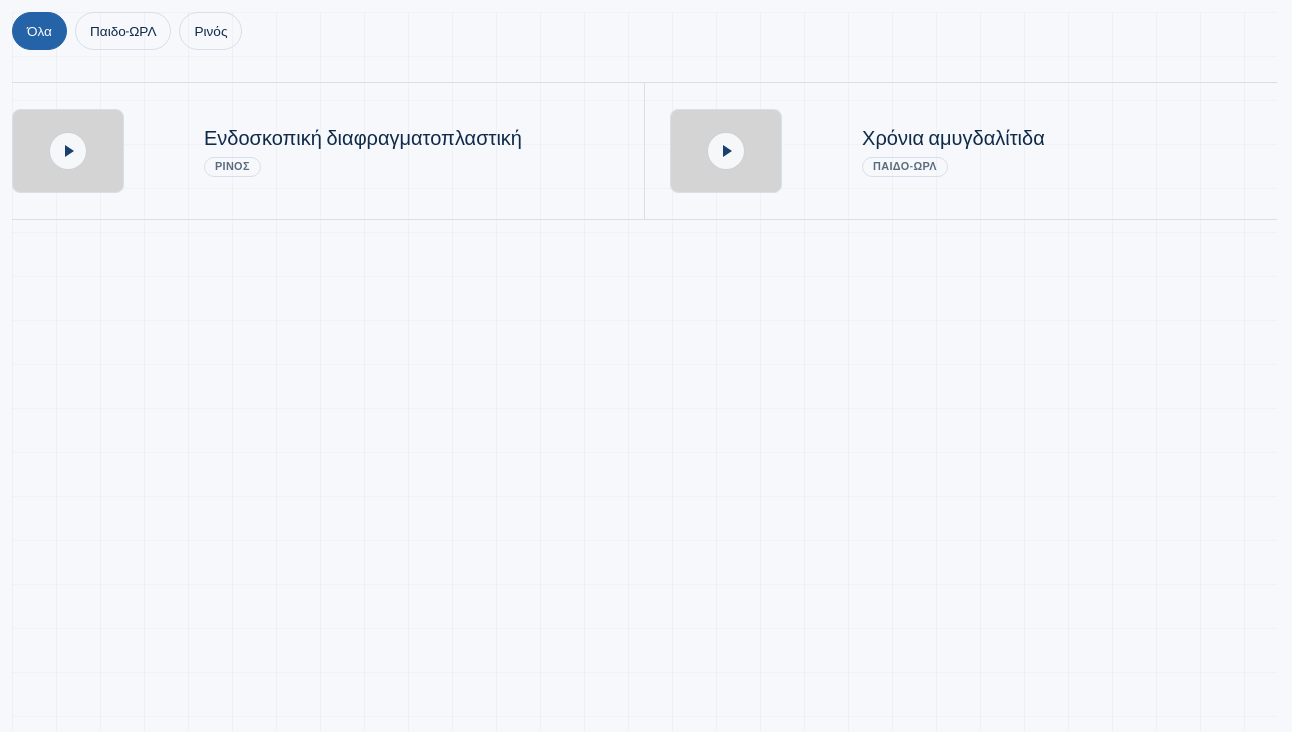
Test: VideoDirectoryGrid › filters entries by category
Click the button "Παιδο-ΩΡΛ" at (123, 31), box [75,12,172,50]
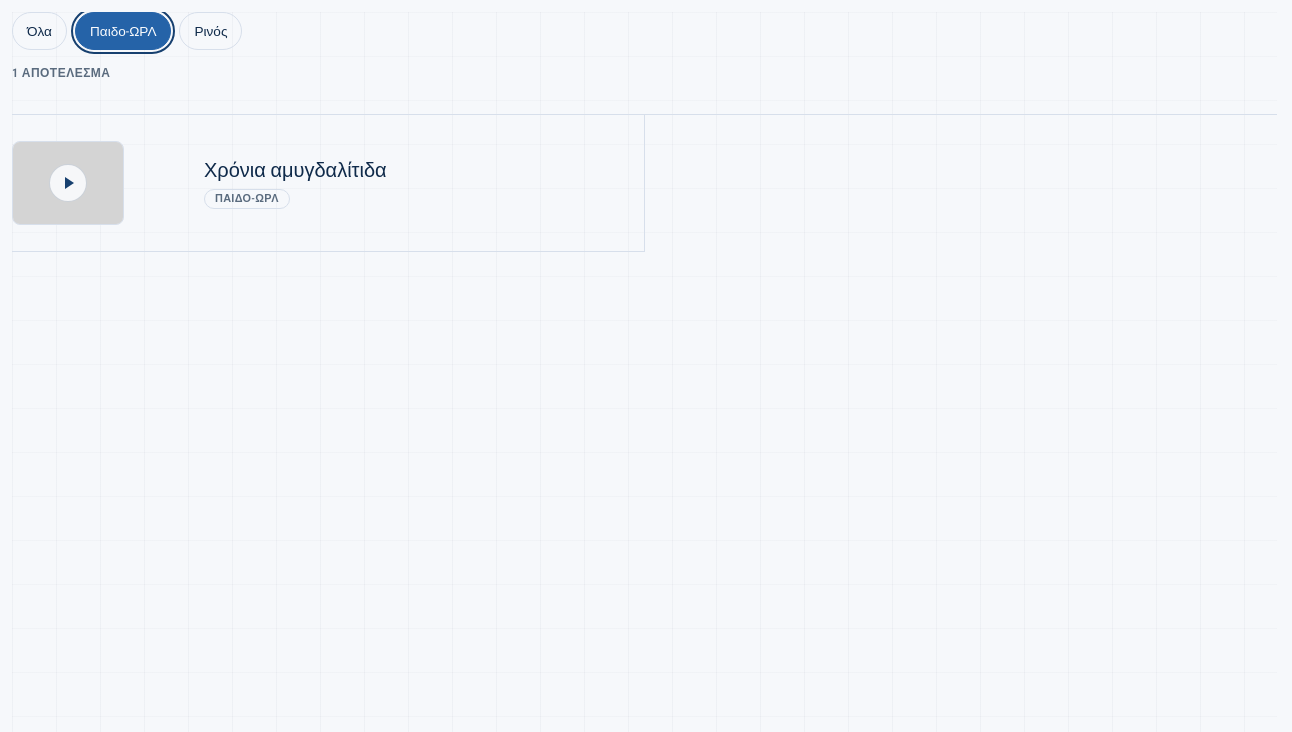
Expected: the text "Χρόνια αμυγδαλίτιδα" is shown, [204,158,387,182]
Now the button "Ενδοσκοπική διαφραγματοπλαστική" is gone
